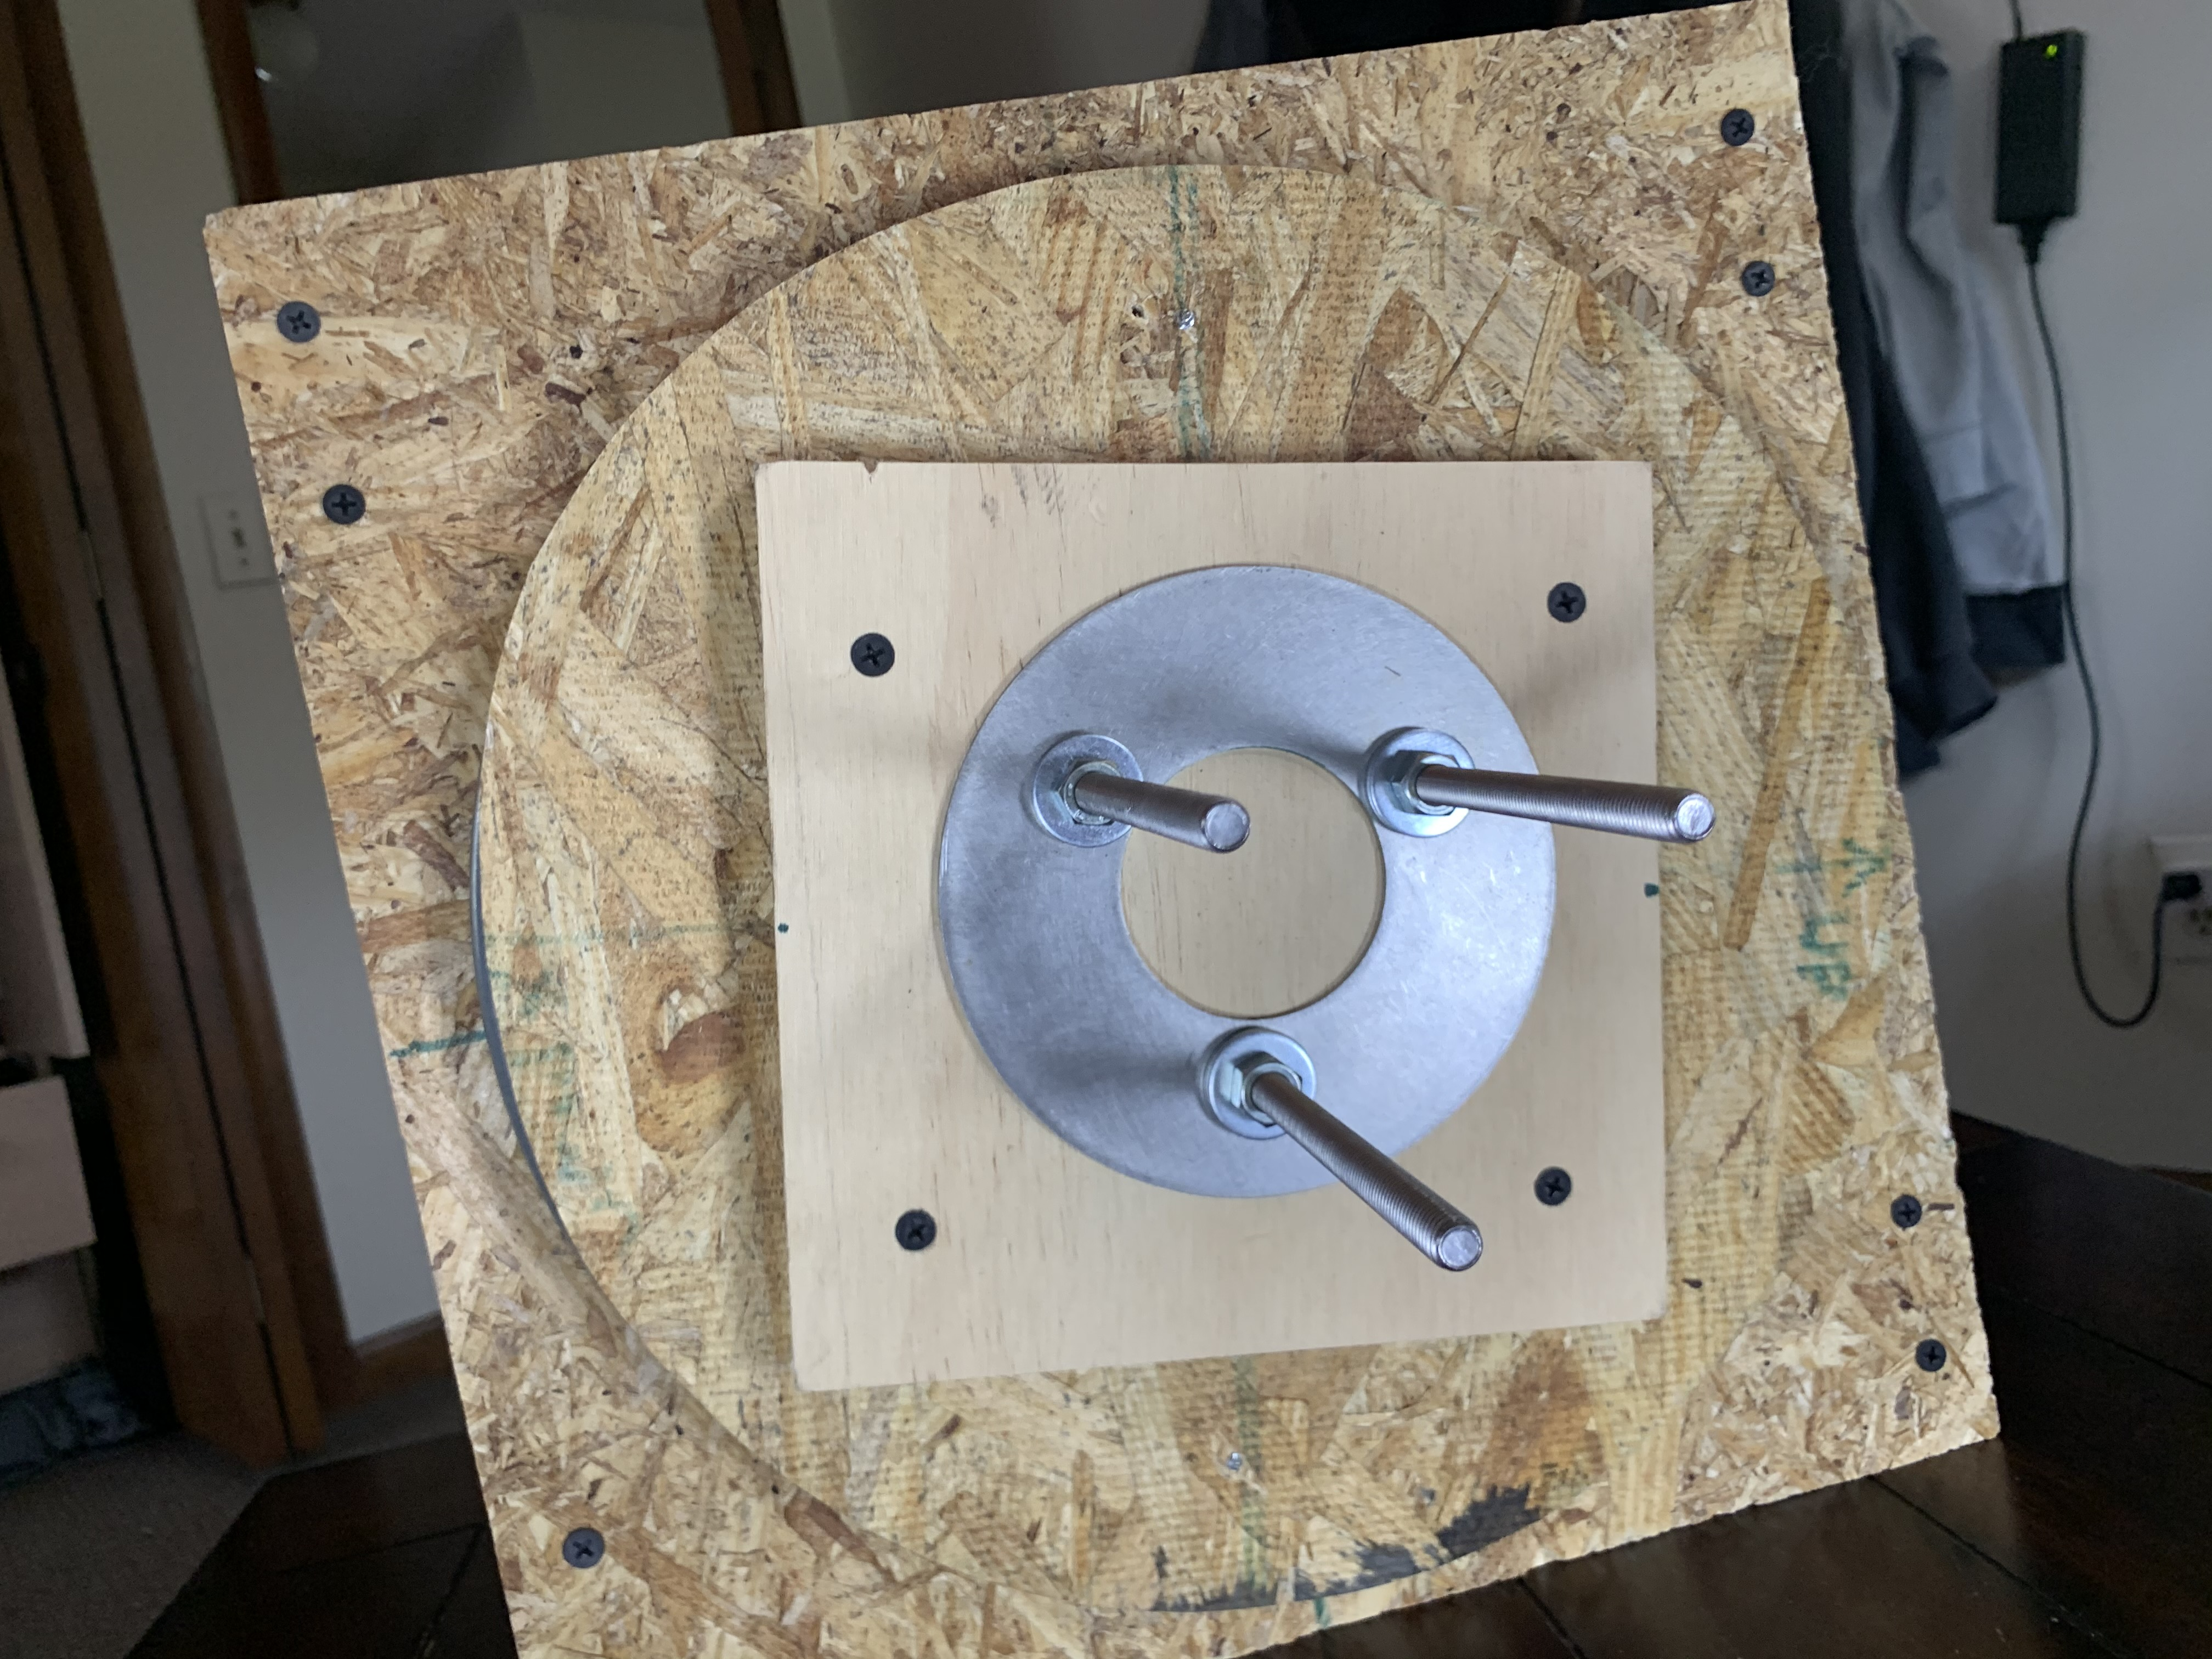bolt: (1022, 732, 1144, 849), (1197, 1026, 1317, 1141), (1360, 728, 1474, 842)
